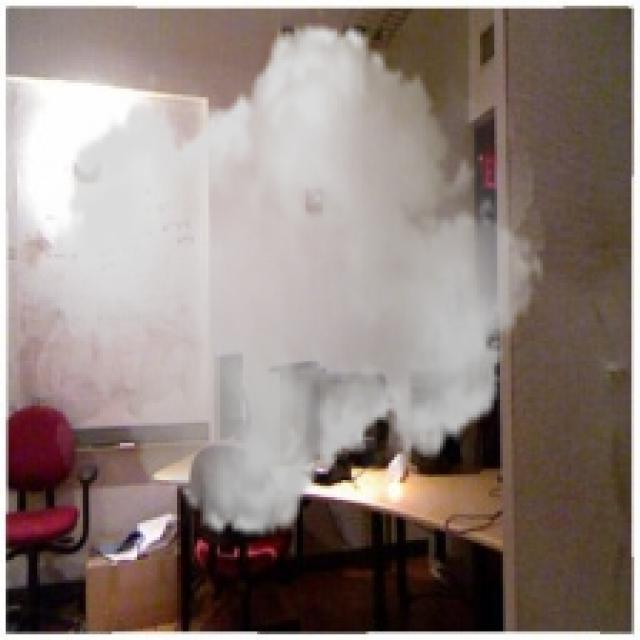Smoke: (26, 2, 546, 558)
